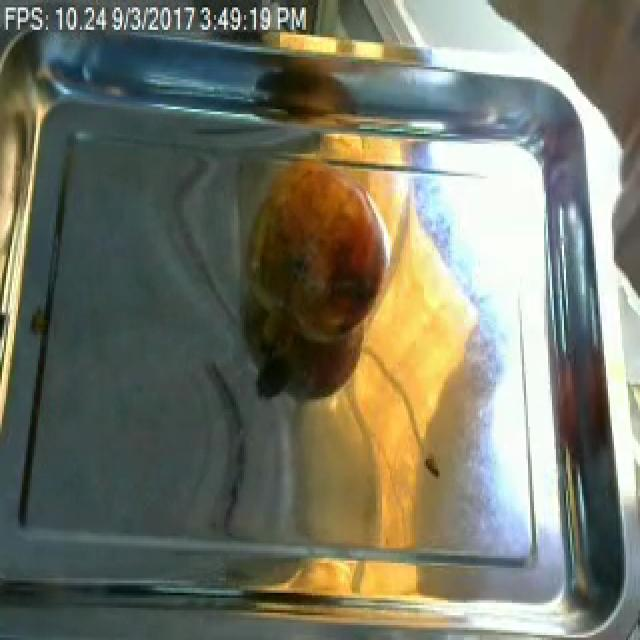fruit: (238, 149, 404, 360)
